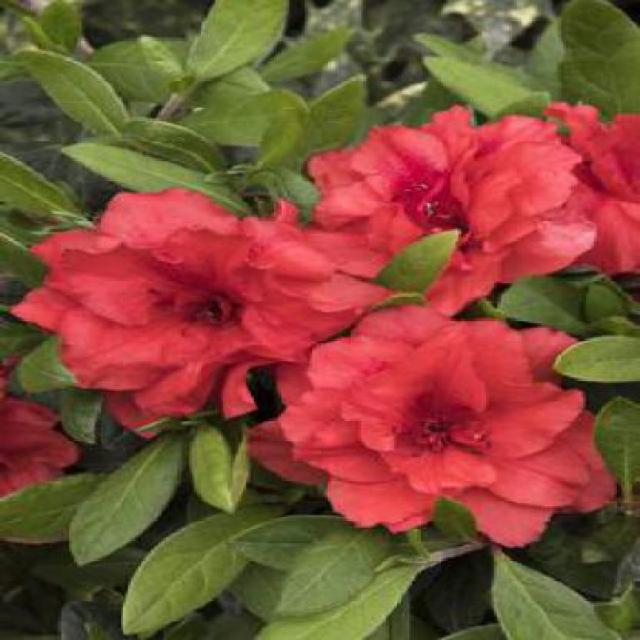Flower: (8, 188, 400, 440), (246, 304, 620, 550), (284, 104, 599, 319)
